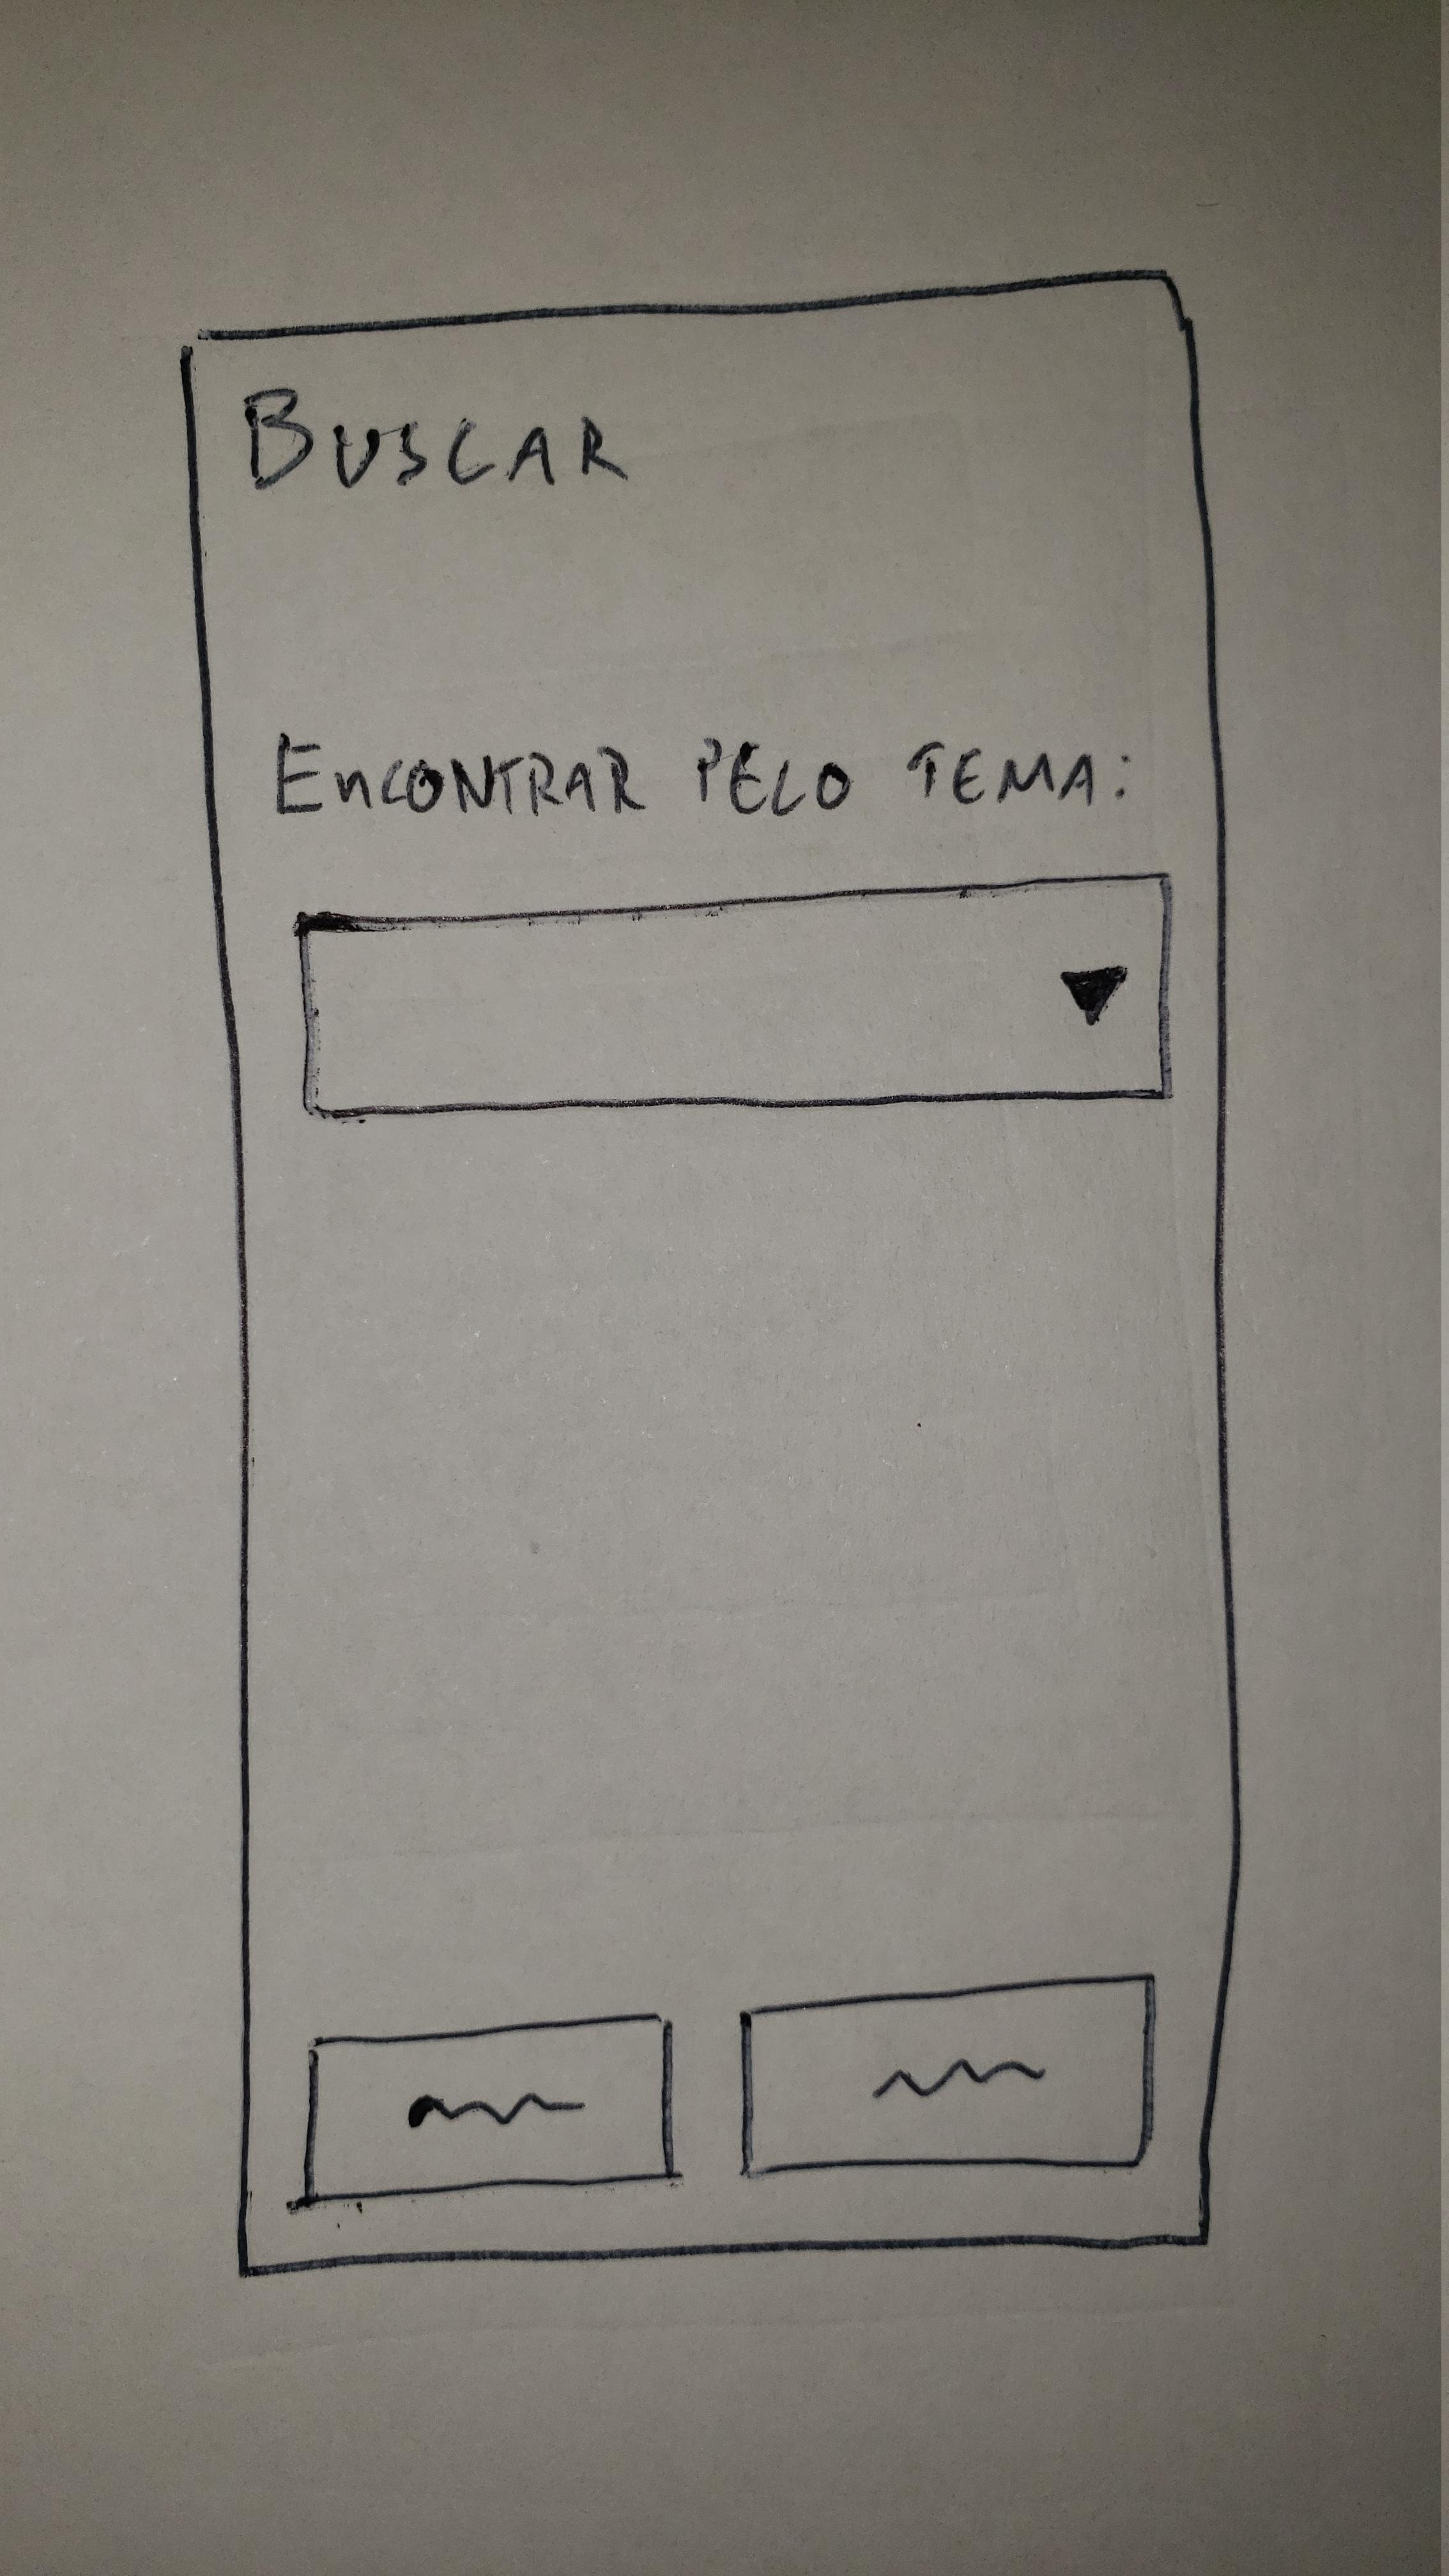Button: (740, 1972, 1157, 2177), (290, 2011, 676, 2209)
Label: (277, 733, 1131, 813), (238, 386, 630, 486)
ListPicker: (300, 871, 1175, 1119)
Screen: (181, 270, 1241, 2277)
